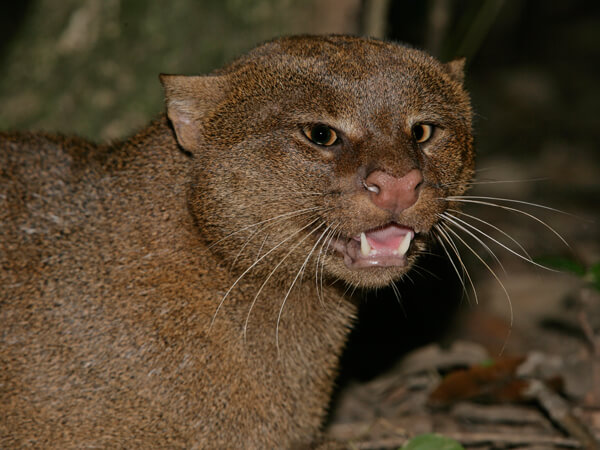Jaguarundi: (18, 29, 491, 405)
